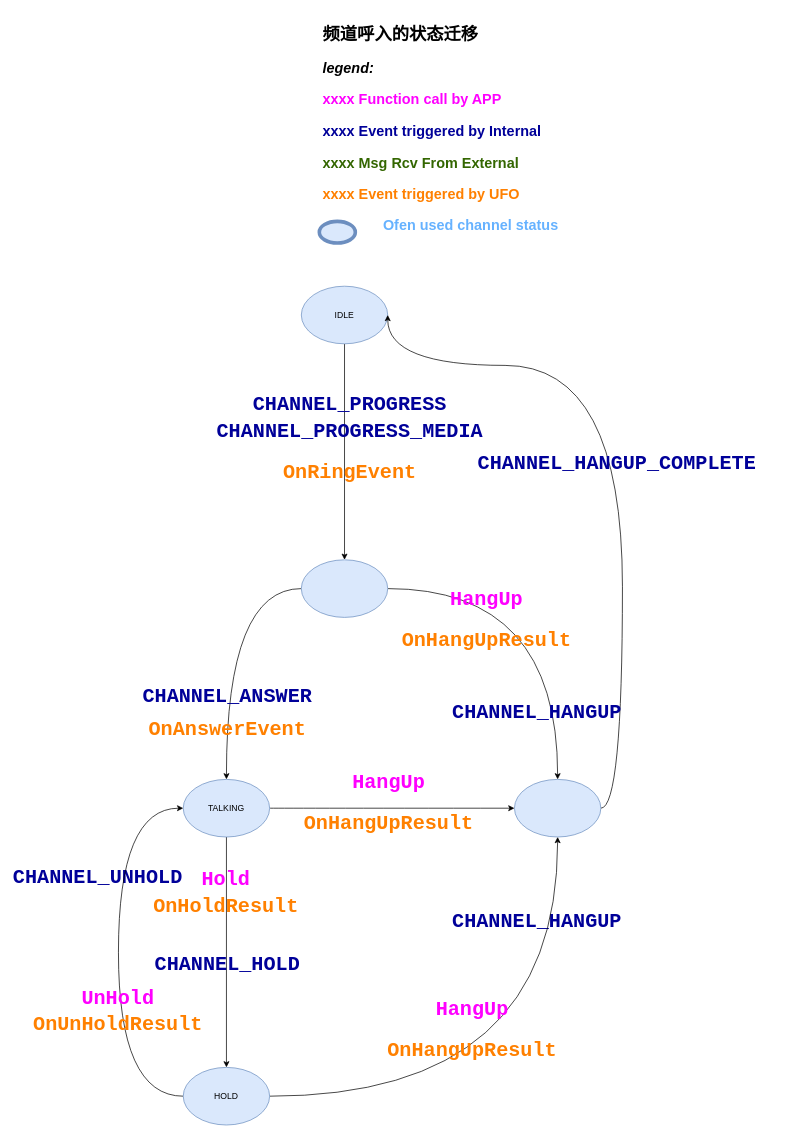
Some shapes in this 807 by 1138 pixel diagram are drawn without their labels. Each missing label, with the box of its shape:
HANGUP: (514, 779, 601, 837)
RINGING: (301, 559, 388, 617)
